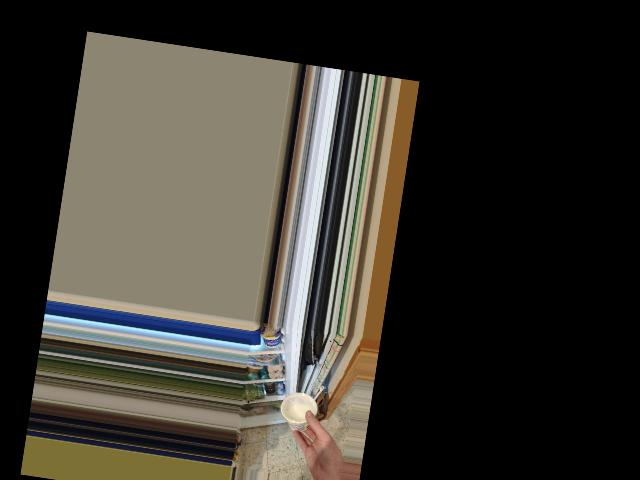cotage: (283, 391, 322, 436)
